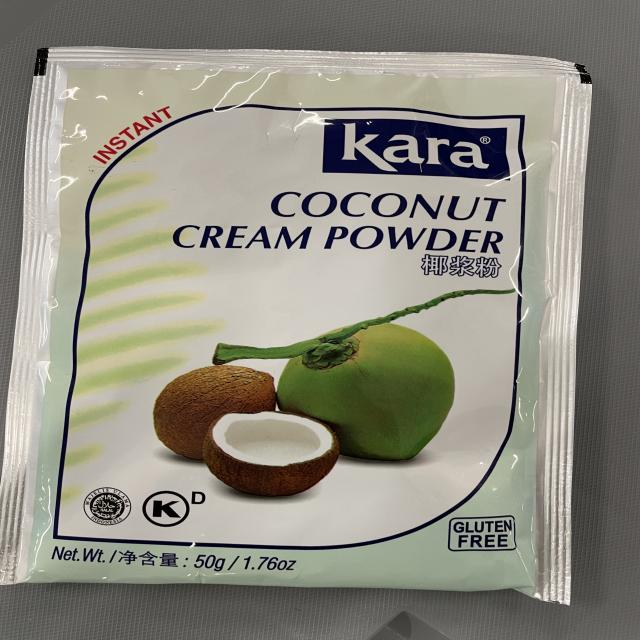object_name: (38, 53, 550, 602)
